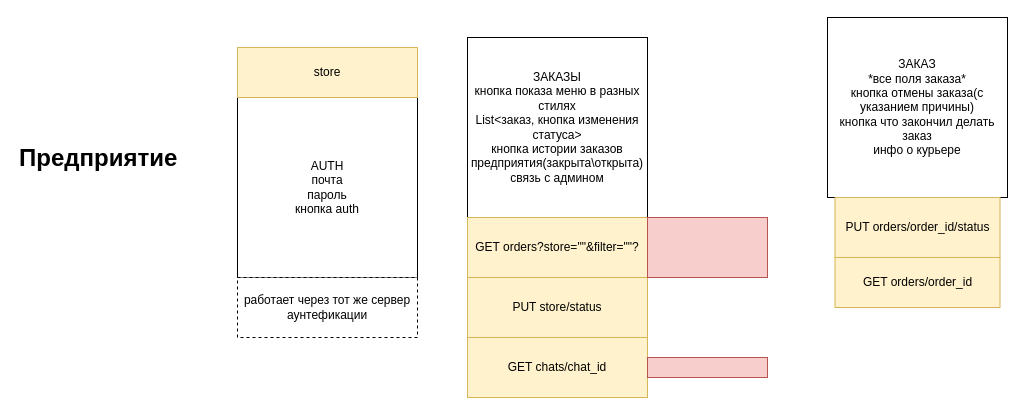
The diagram is 1025 pixels wide and 415 high, and some of its shapes have lost their labels. The shapes that lost their labels are listed below. From the top down, each one's centre as x and y in pixels, then its label:
At point (707, 247): "если будет время переделаем на graphQL".
At point (707, 367): "пока не делаем".
